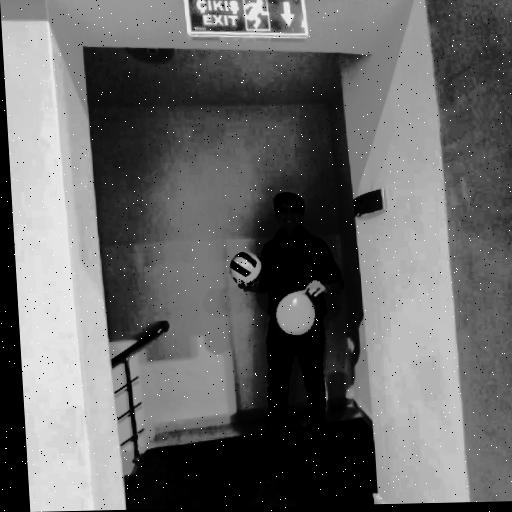balloon: (273, 290, 320, 340)
